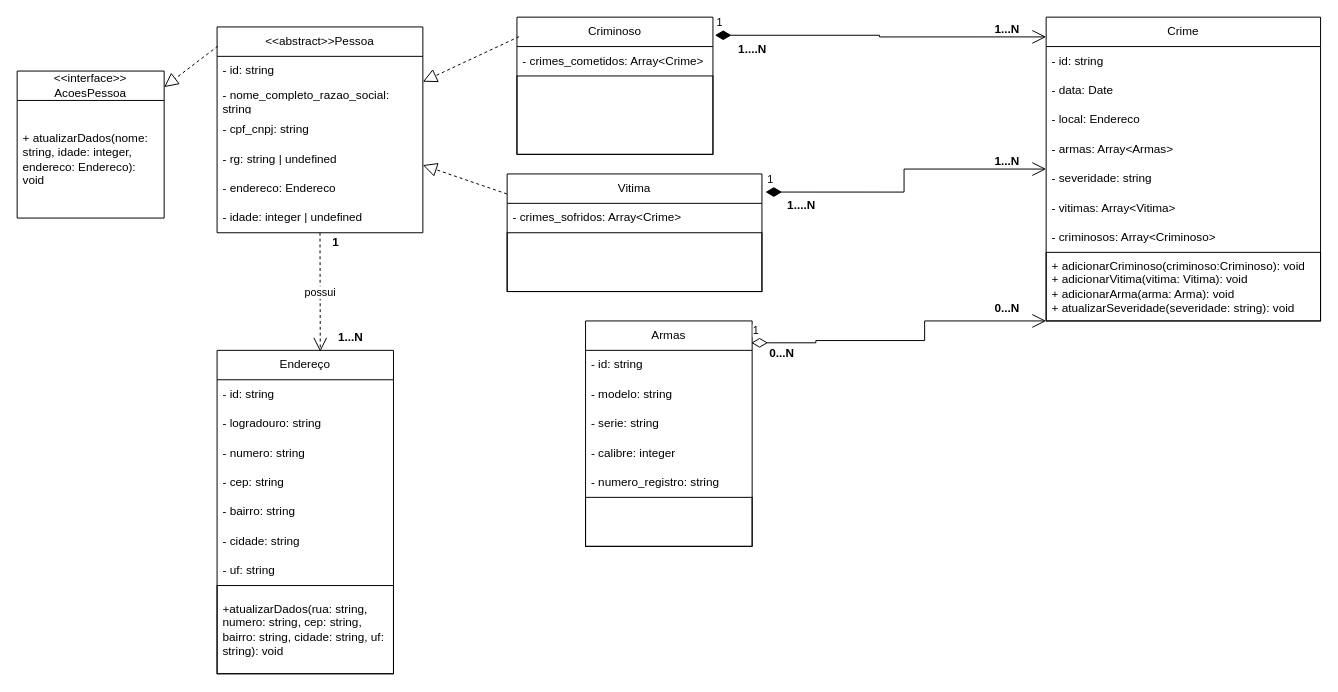
This 1338x692 diagram has some shape labels left out. Each missing label, with the centre of its shape:
+ cometerCrime():void: the point at 614,114
+ identificarPortador(): Criminoso: the point at 668,521
+ sofrerCrime(): void: the point at 634,262
